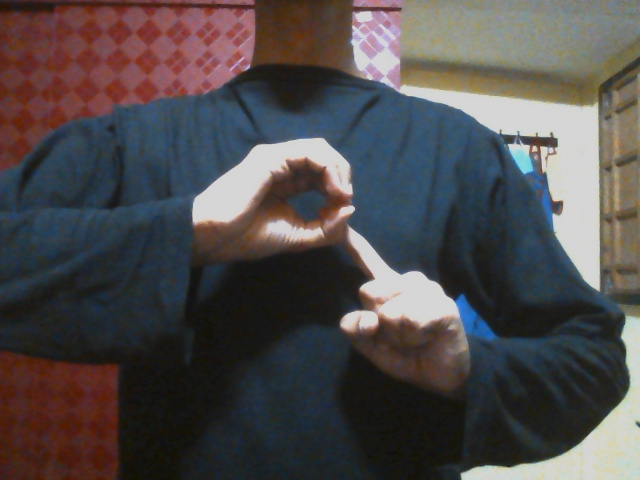Q: (205, 136, 464, 393)
